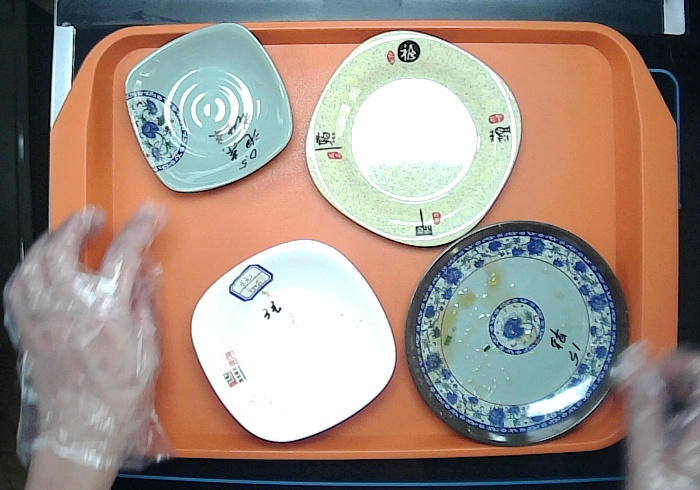NLDX-Bai_Se_Xiao_Fang_Die: (189, 234, 399, 445)
NLDX-Fu_Zi_Fang_Die: (299, 22, 531, 254)
NLDX-Qing_Hua_Xiao_Fang_Die: (117, 21, 297, 204)
NLDX-Qing_Hua_Yuan_Die: (387, 211, 639, 452)
